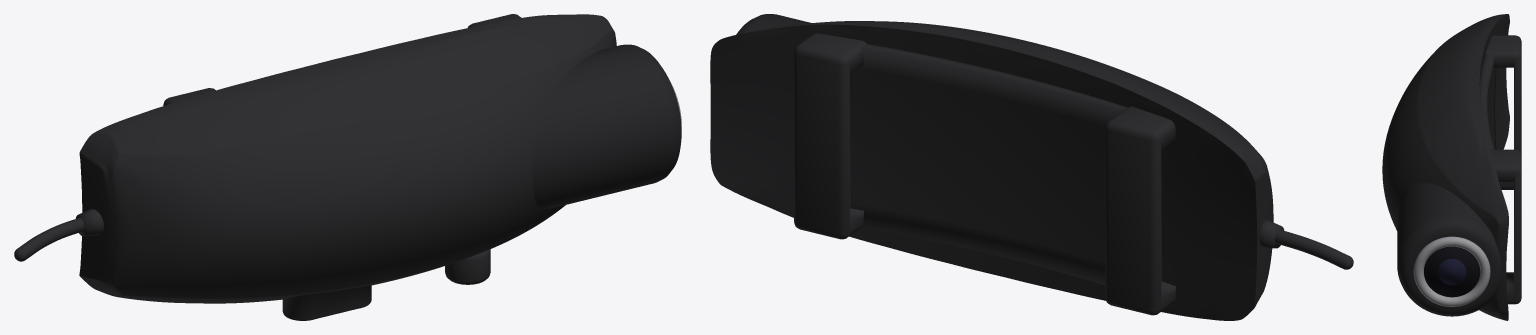
Rendered from novo_modulo_camera_v4.glb.
The picture shows the model from 3 angles, left to right: view 1: azimuth 30°, elevation 25°; view 2: azimuth 150°, elevation 25°; view 3: azimuth 270°, elevation 25°; orthographic projection. The views are drawn at different scales.
Parts seen in each view (by area): view 1: NovoModuloV4, Barril, Boss_P3, CaboTraseiro, PassaFio; view 2: NovoModuloV4, Berco_V4, Presilha_A, Presilha_B, CaboTraseiro, Barril, PassaFio; view 3: NovoModuloV4, Barril, Presilha_B, Anel_Lente, Presilha_A, Vidro, Berco_V4, Lente.
Boxes of the visible parts, x1=… form: NovoModuloV4: x1=79, y1=14, x2=616, y2=320; Barril: x1=532, y1=44, x2=681, y2=208; Boss_P3: x1=445, y1=249, x2=490, y2=284; CaboTraseiro: x1=18, y1=218, x2=84, y2=259; PassaFio: x1=75, y1=209, x2=103, y2=236; NovoModuloV4: x1=710, y1=21, x2=1273, y2=320; Berco_V4: x1=850, y1=44, x2=1127, y2=285; Presilha_A: x1=1105, y1=106, x2=1175, y2=315; Presilha_B: x1=794, y1=33, x2=866, y2=239; CaboTraseiro: x1=1275, y1=230, x2=1348, y2=268; Barril: x1=736, y1=14, x2=810, y2=34; PassaFio: x1=1259, y1=219, x2=1284, y2=248; NovoModuloV4: x1=1382, y1=14, x2=1509, y2=320; Barril: x1=1397, y1=182, x2=1501, y2=316; Presilha_B: x1=1490, y1=149, x2=1521, y2=304; Anel_Lente: x1=1413, y1=236, x2=1490, y2=306; Presilha_A: x1=1486, y1=35, x2=1521, y2=189; Vidro: x1=1424, y1=246, x2=1480, y2=297; Berco_V4: x1=1479, y1=54, x2=1496, y2=149; Lente: x1=1438, y1=259, x2=1466, y2=285.
Bounding box in the file's own units: 0.1415 × 0.0501 × 0.0355.
